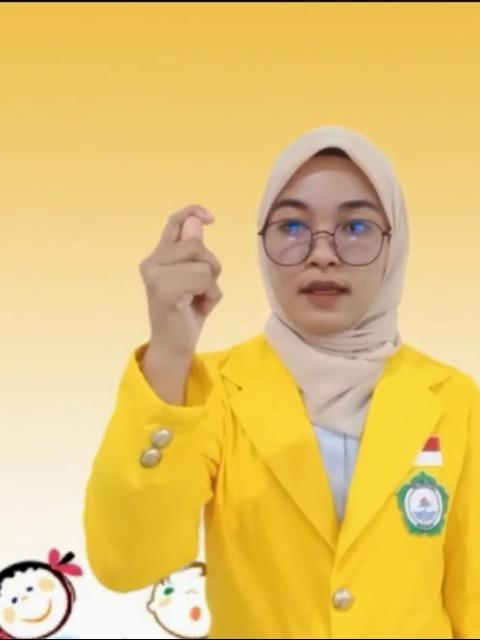T: (139, 204, 223, 338)
